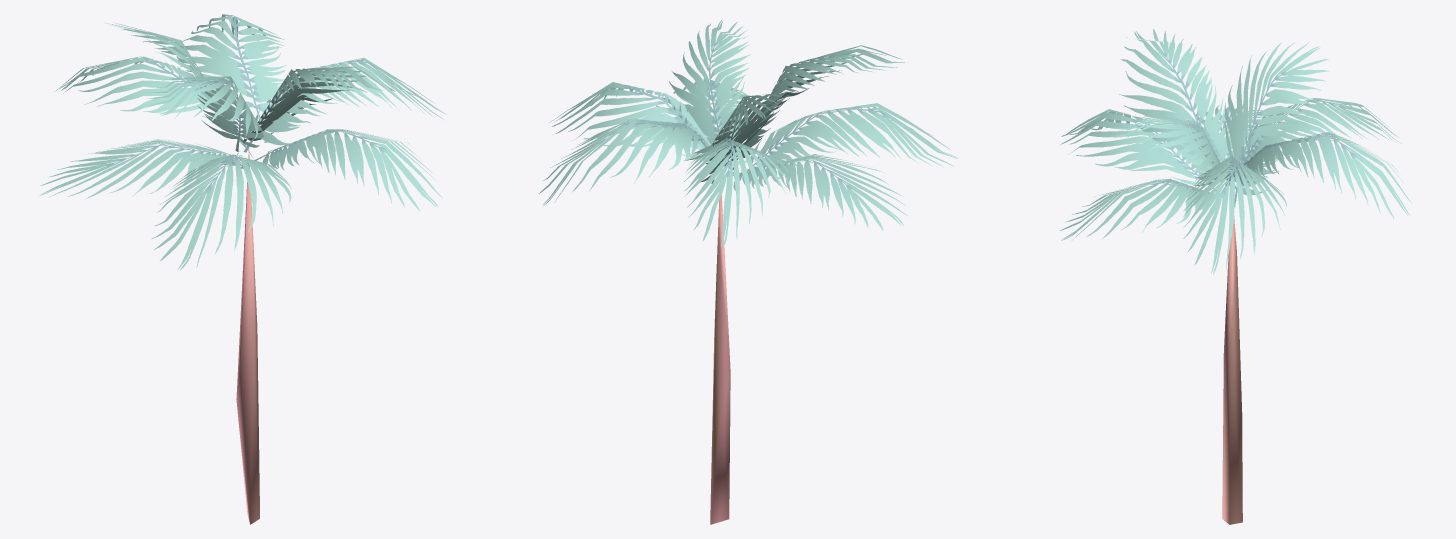
File: lod1palmtreeV1.2.fbx
3 views of the same model, side by side, from view 1: azimuth 30°, elevation 25°; view 2: azimuth 150°, elevation 25°; view 3: azimuth 270°, elevation 25° (orthographic). The views are drawn at different scales.
Visible parts, largest first — view 1: plamtree_v1.1; view 2: plamtree_v1.1; view 3: plamtree_v1.1.
Boxes of the visible parts, x1,y1,x2,y2 form: plamtree_v1.1: (39,14,446,524); plamtree_v1.1: (538,20,958,524); plamtree_v1.1: (1059,29,1411,524).
Bounding box in the file's own units: 520 × 628 × 547.
